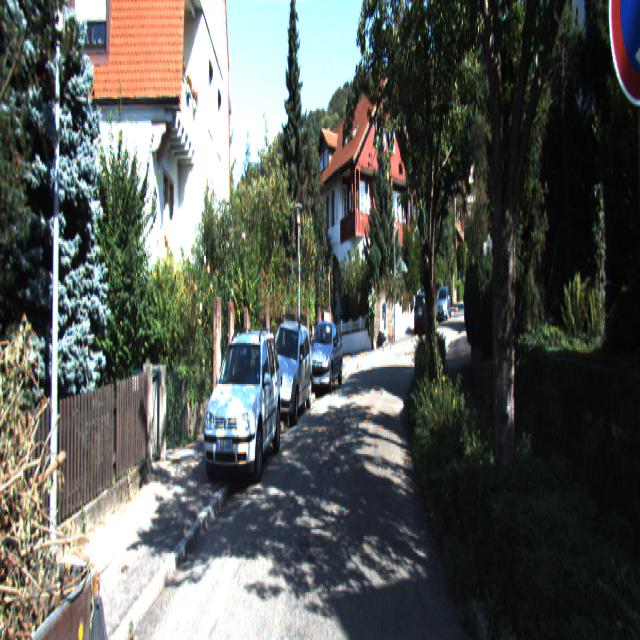Car: (0, 511, 124, 638), (201, 324, 283, 497), (263, 314, 314, 427), (306, 316, 343, 396), (413, 292, 436, 338)
